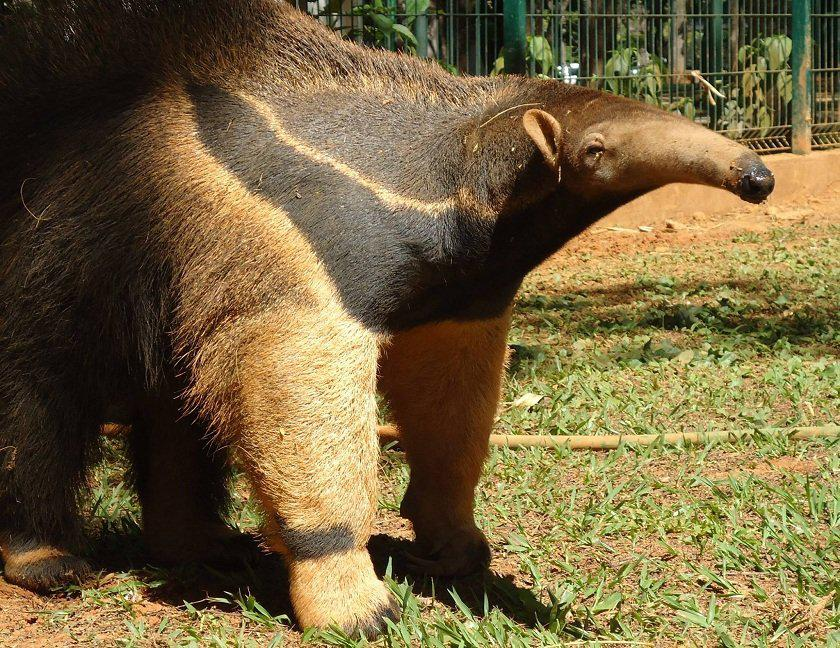TamanduaBandeira: (11, 5, 785, 642)
